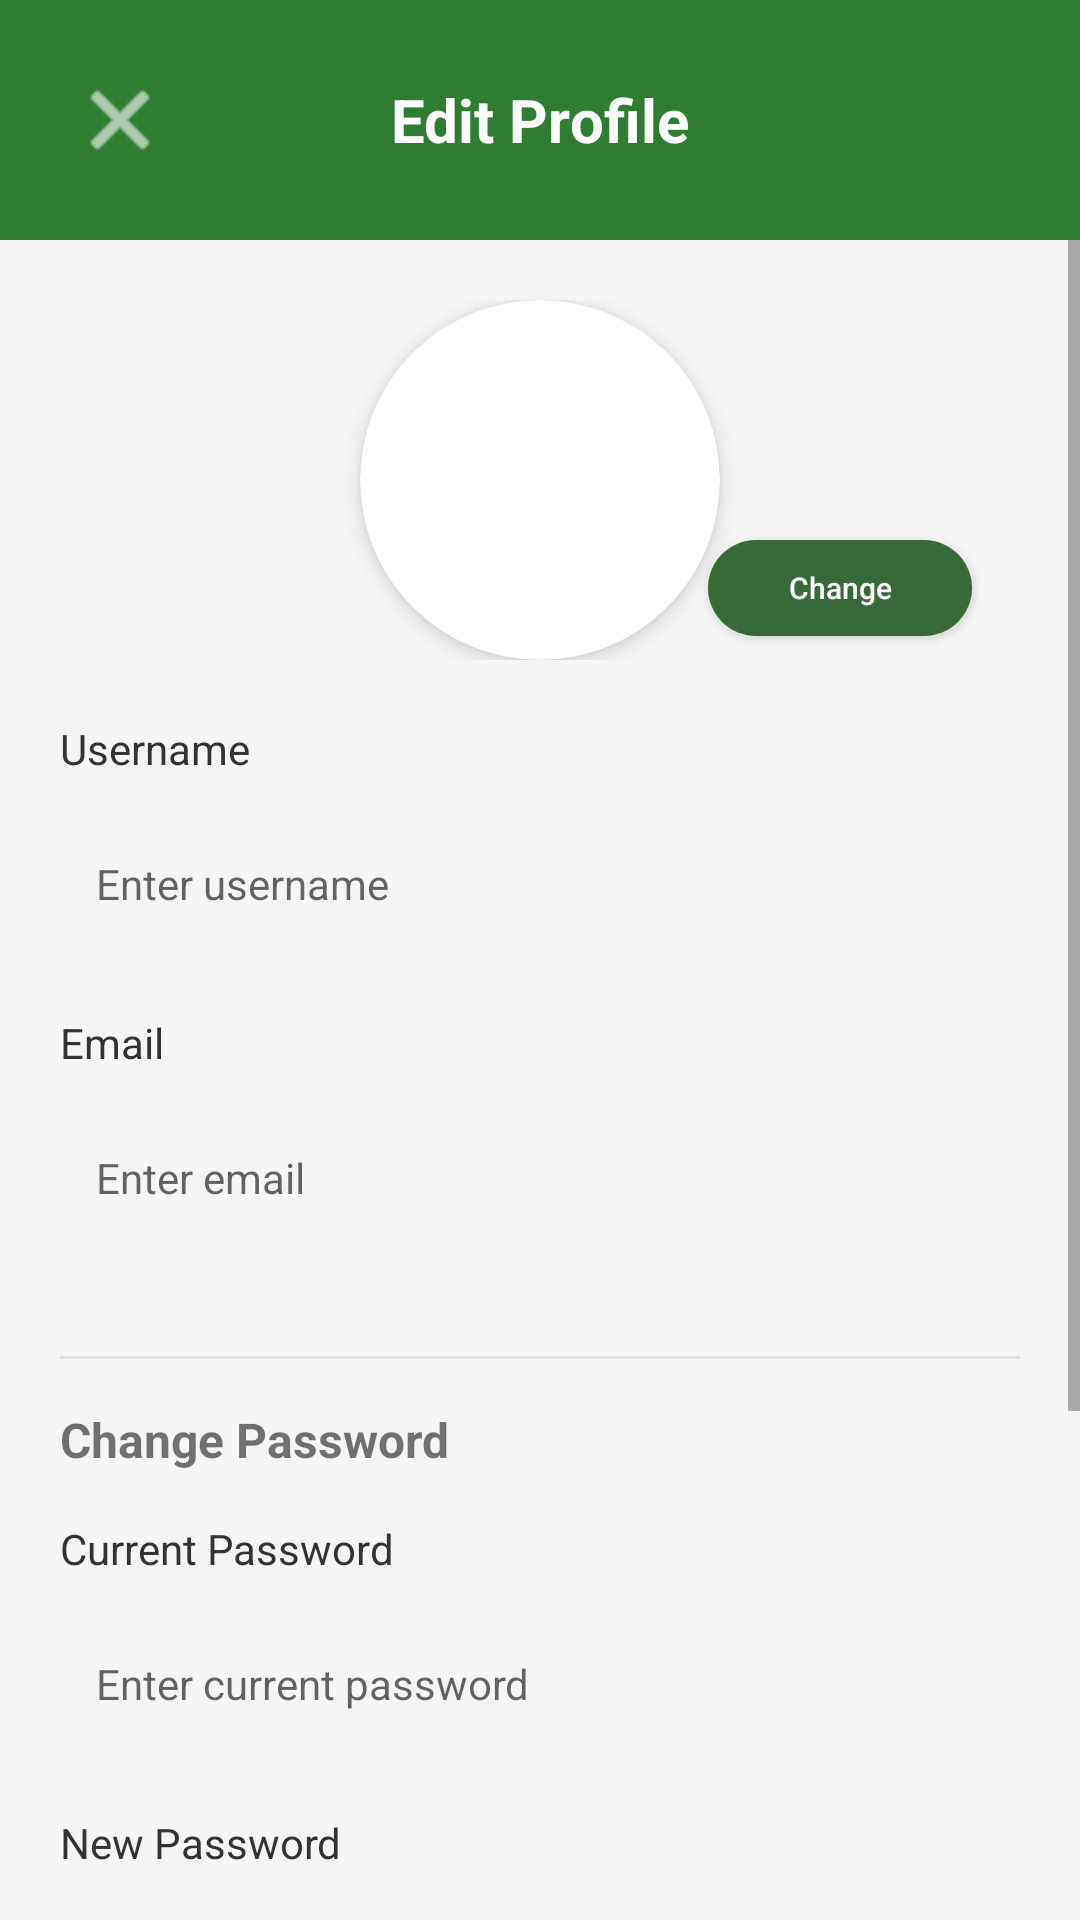

Icon bounding boxes for this 1080*1920 phone screenshot, format (x1, y1, x2, y2):
close clear cancel: (90, 90, 150, 150)
